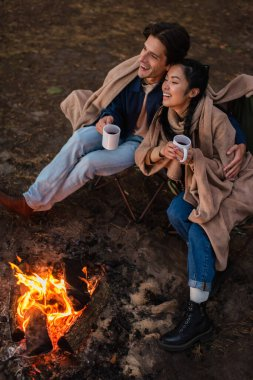fire: (8, 257, 76, 340)
